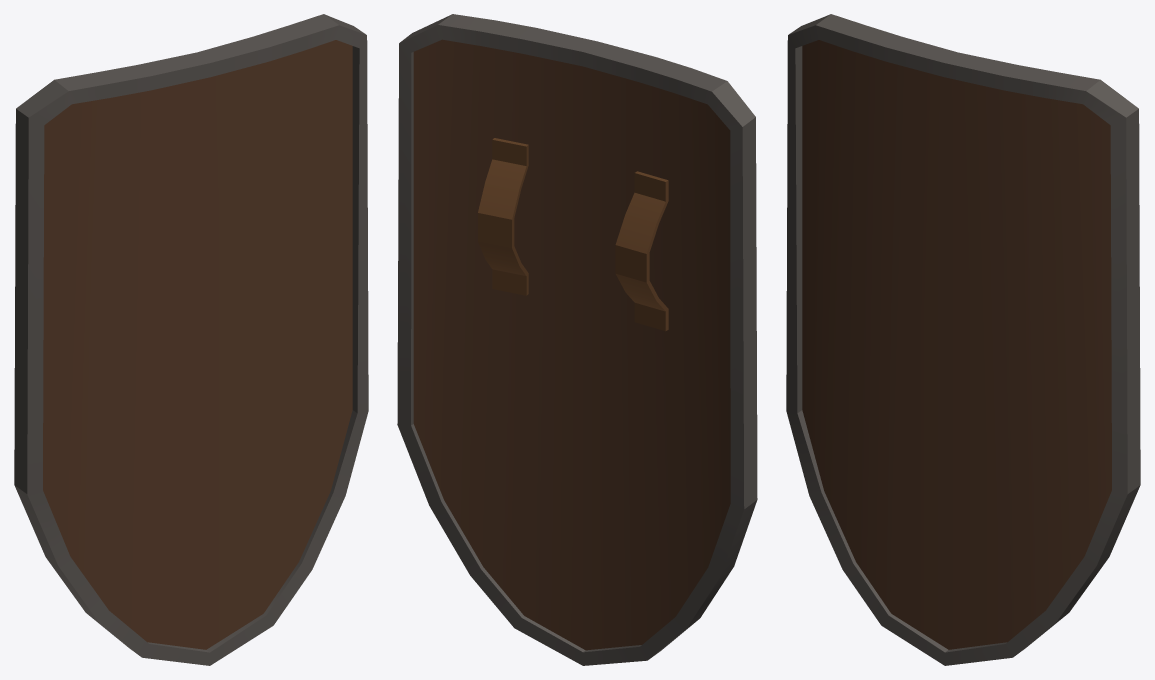
Rendered from Heater Shield_Brown.fbx.
3 views of the same model, side by side, from view 1: azimuth 30°, elevation 25°; view 2: azimuth 150°, elevation 25°; view 3: azimuth 330°, elevation 25° (orthographic).
Visible parts, largest first — view 1: Heater Shield_Brown_Baked; view 2: Heater Shield_Brown_Baked; view 3: Heater Shield_Brown_Baked.
Part boxes in pixels (x1,y1,x2,y2): Heater Shield_Brown_Baked: (14,14,368,665); Heater Shield_Brown_Baked: (397,14,757,665); Heater Shield_Brown_Baked: (786,14,1140,665).
Bounding box in the file's own units: 49.83 × 84.28 × 8.78.
1 material, 1 textured.
